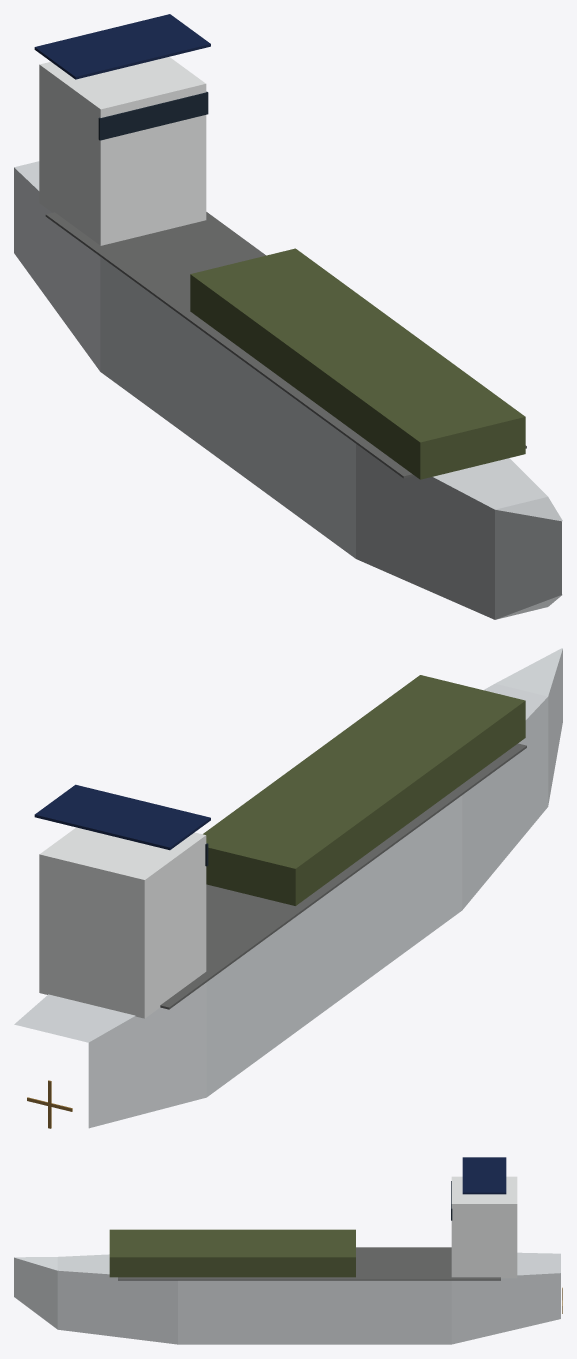
The model's file is veh_naval_merchant_a09_lod2.glb.
3 renders of one model, top to bottom at view 1: azimuth 30°, elevation 25°; view 2: azimuth 150°, elevation 25°; view 3: azimuth 270°, elevation 25°, orthographic. The views are drawn at different scales.
Parts seen in each view (by area): view 1: body; view 2: body; view 3: body.
Boxes of the visible parts, left/top/right/bottom form: body: left=14, top=14, right=562, bottom=619; body: left=14, top=648, right=562, bottom=1128; body: left=14, top=1157, right=560, bottom=1344.
Size of the model in its own units: 5.32 by 10.93 by 34.92.
